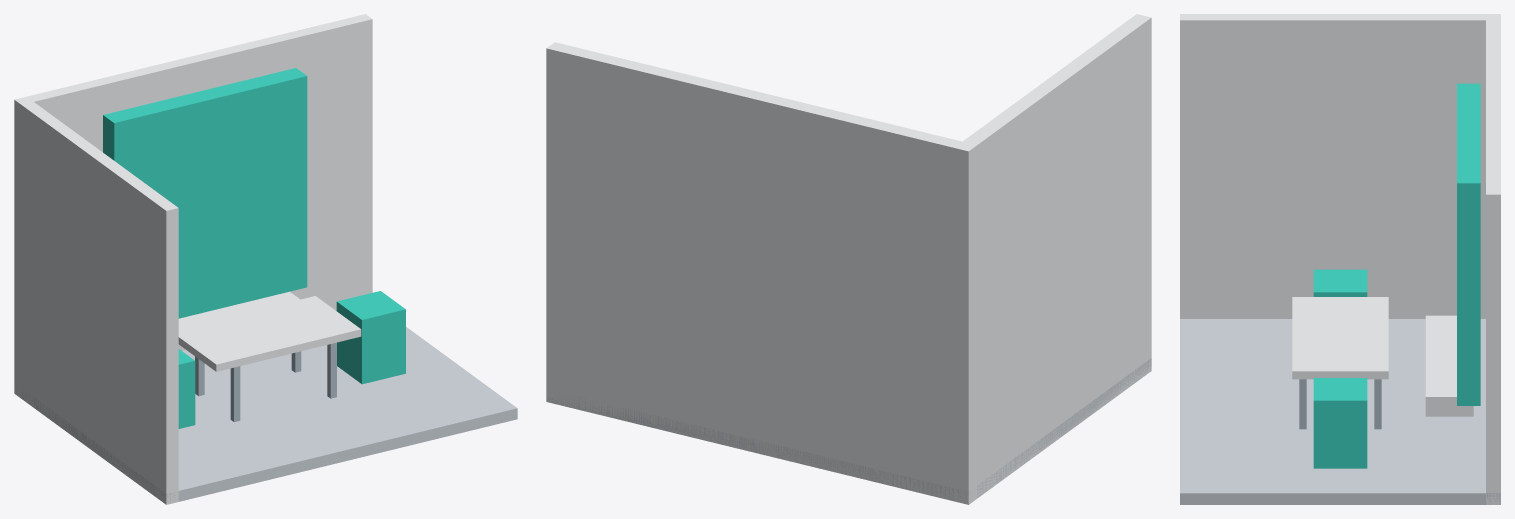
3 views of the same model, side by side, from view 1: azimuth 30°, elevation 25°; view 2: azimuth 150°, elevation 25°; view 3: azimuth 270°, elevation 25° (orthographic). The views are drawn at different scales.
Parts seen in each view (by area): view 1: Exhibition Booth Concept; view 2: Exhibition Booth Concept; view 3: Exhibition Booth Concept.
Part boxes in pixels (box(x1,y1,x2,y2)): Exhibition Booth Concept: box(14, 14, 517, 504); Exhibition Booth Concept: box(546, 14, 1151, 504); Exhibition Booth Concept: box(1180, 14, 1500, 504).
Bounding box in the file's own units: 4 × 3.2 × 3.
